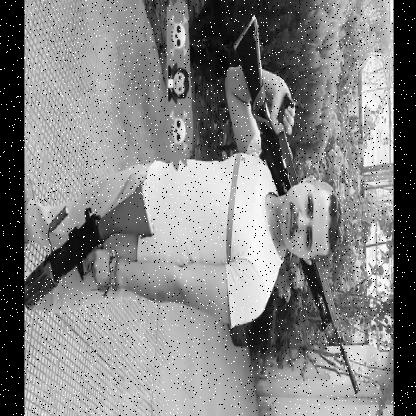rifle: (230, 11, 360, 399), (24, 176, 156, 312)
